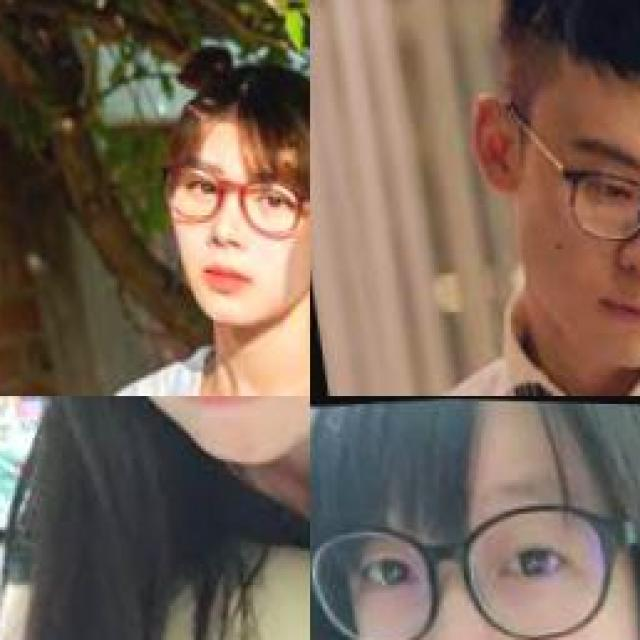Glasses: (310, 477, 640, 640), (493, 76, 640, 280), (148, 134, 308, 252)
